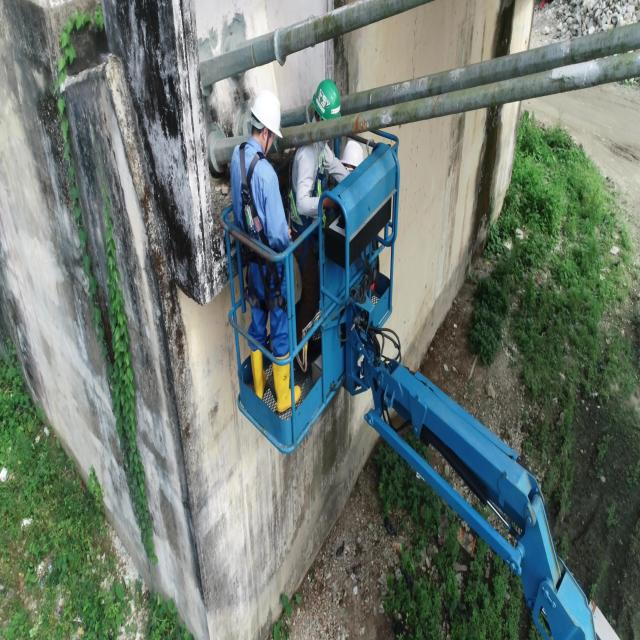corrosion: (355, 114, 359, 134), (361, 120, 367, 132), (309, 130, 312, 142)
crack: (434, 94, 440, 106)
